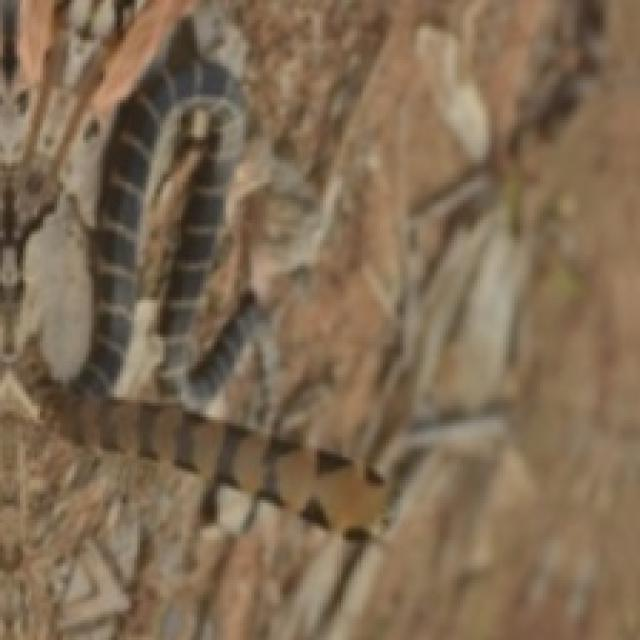king cobra: (20, 20, 383, 534)
